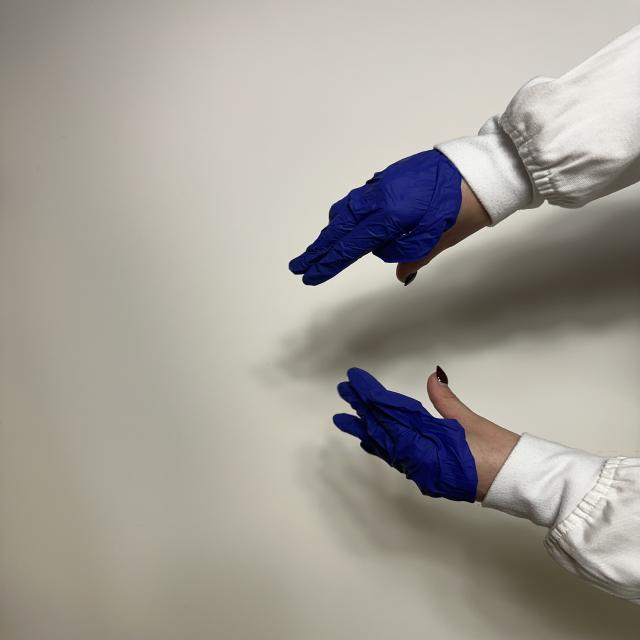glove_partial: (289, 150, 486, 286), (334, 367, 520, 502)
